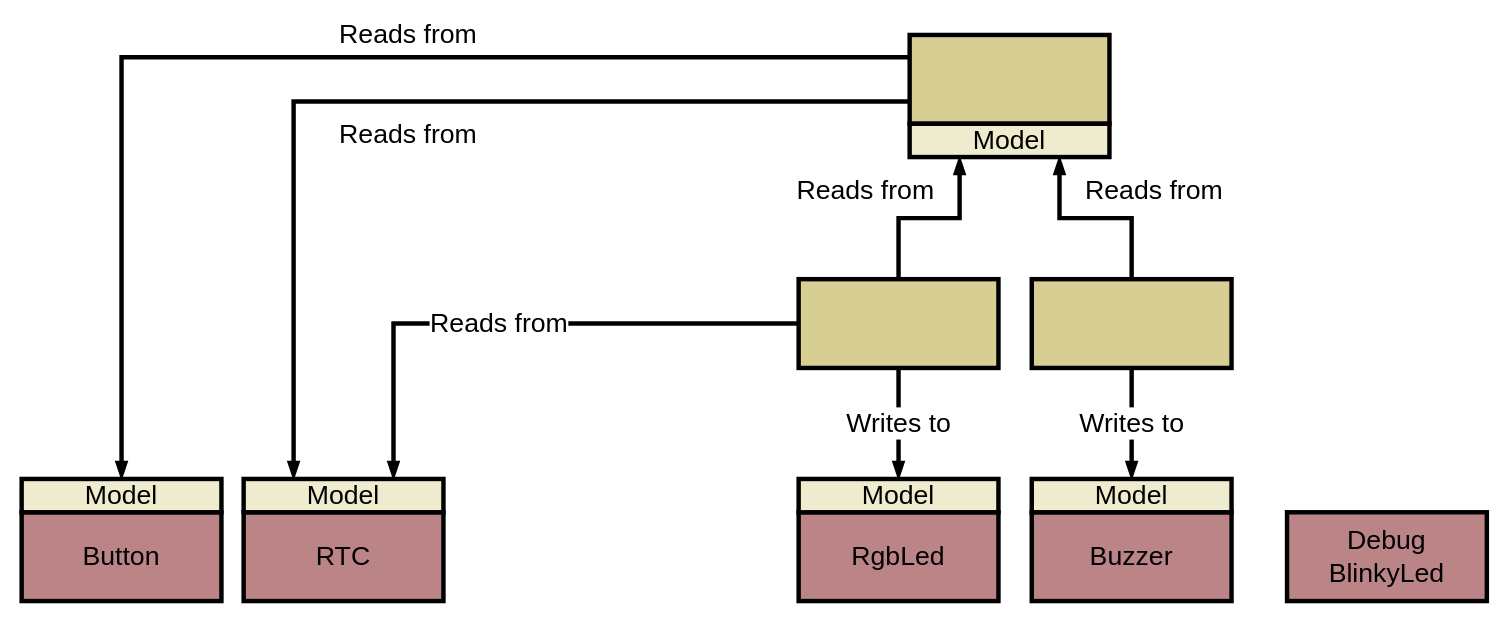
The diagram is 1507 pixels wide and 623 high, and some of its shapes have lost their labels. Each missing label, with the centre of its shape:
"LightEffect" belongs at point (898, 323).
"Main State Machine" belongs at point (1009, 78).
"Tone Generator" belongs at point (1131, 323).
